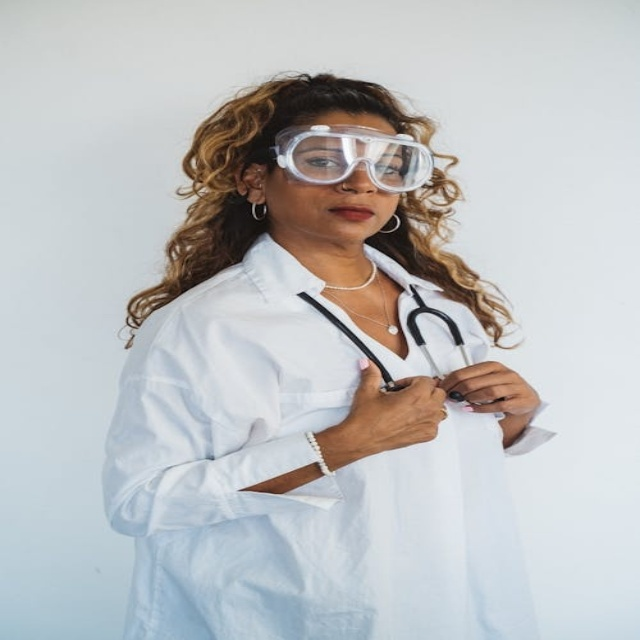Gafas: (270, 118, 439, 195)
Sin_guantes: (306, 354, 444, 461), (435, 350, 544, 428)
Sin_mascara: (307, 199, 388, 231)
